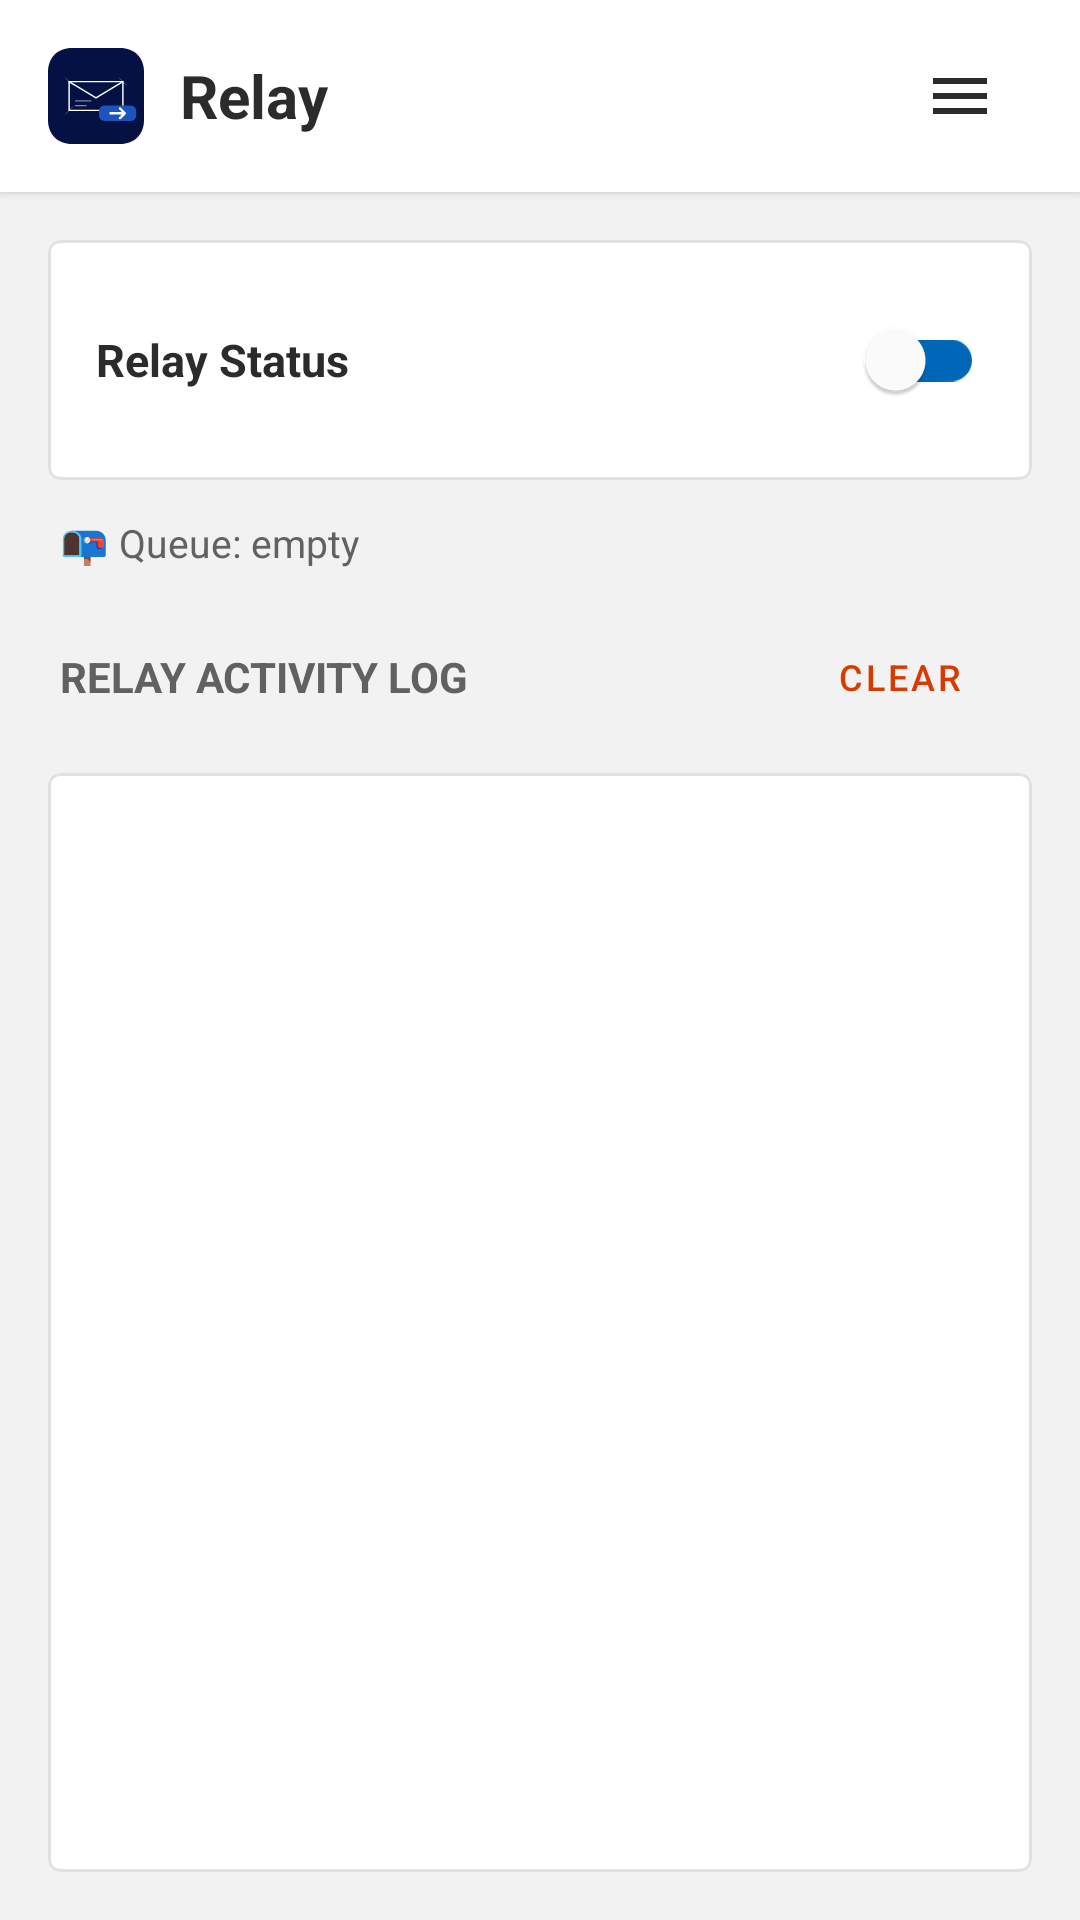

Named icons in this screenshot (1080px x 1920px) and their bounding boxes, bbox=(x1, y1, x2, y2):
menu: bbox=(933, 78, 987, 114)
